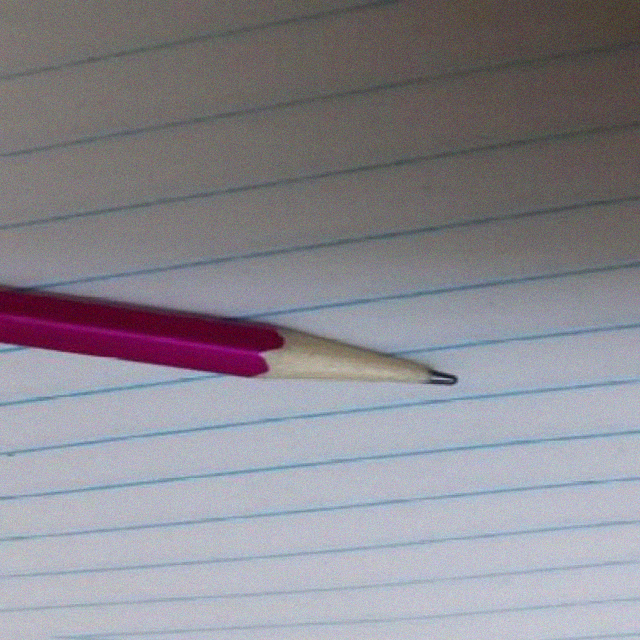pencil: (241, 336, 456, 398)
